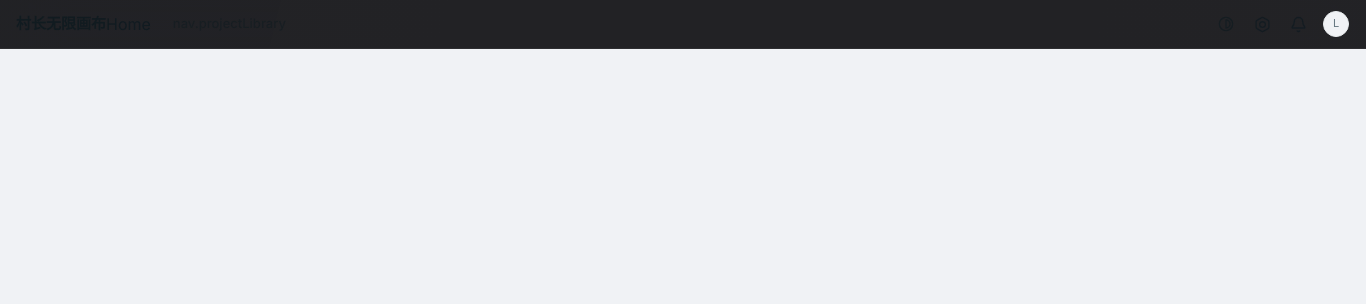
Test case: Header runtime gating › offers the avatar entry on the community edition too
Hover over the element showing "L" at (1336, 24), box [1322,10,1350,38]
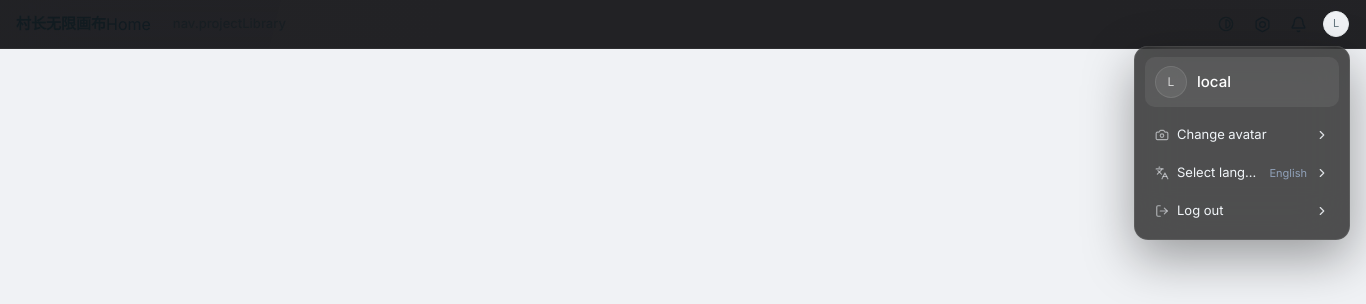
Expected: the text "Change avatar" is shown, [1177,126,1266,142]
